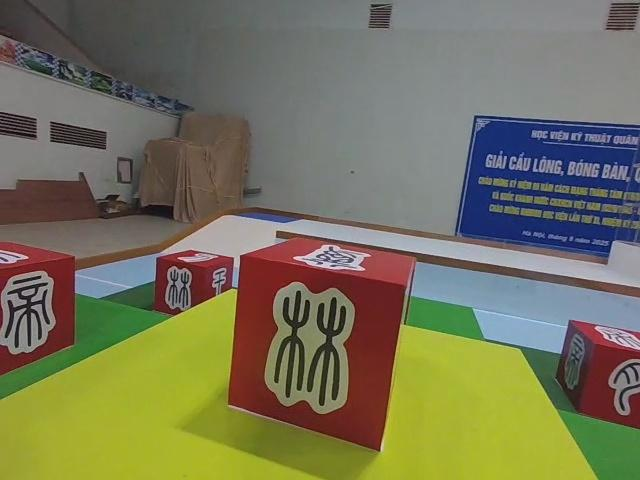R2 Fake: (225, 233, 420, 454), (0, 237, 77, 378), (554, 317, 640, 429), (153, 247, 235, 315)
